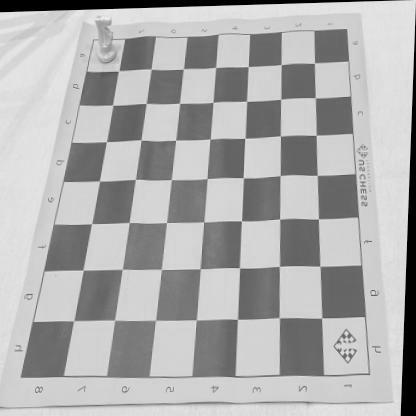white-knight: (92, 12, 119, 64)
